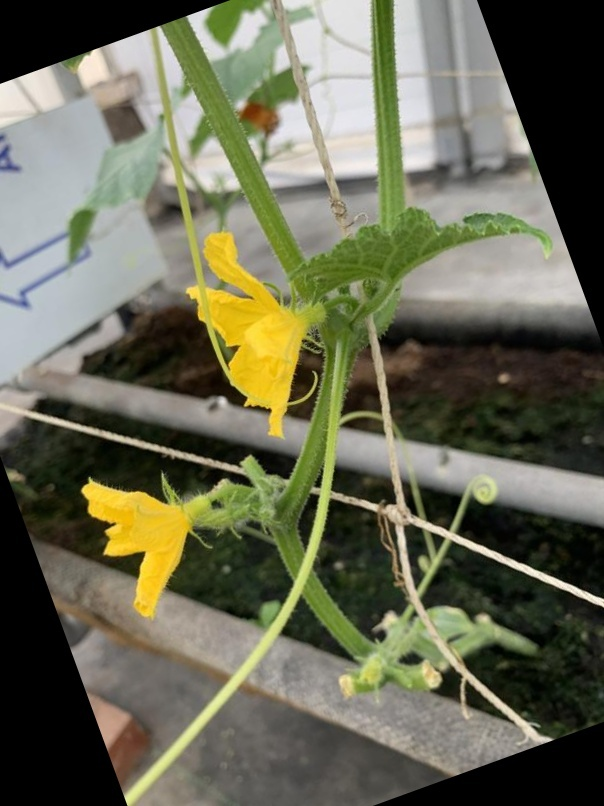flowering: (187, 224, 317, 425), (65, 463, 199, 612)
